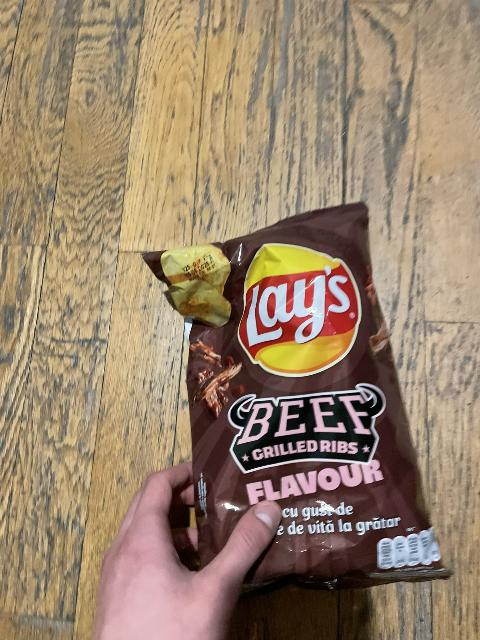Lays Beef Grilled Ribs 125g: (147, 210, 442, 587)
